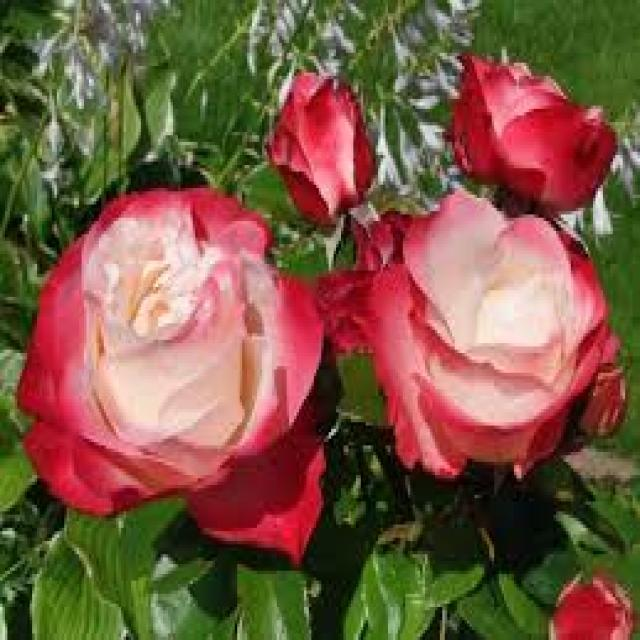rose: (18, 162, 347, 544)
